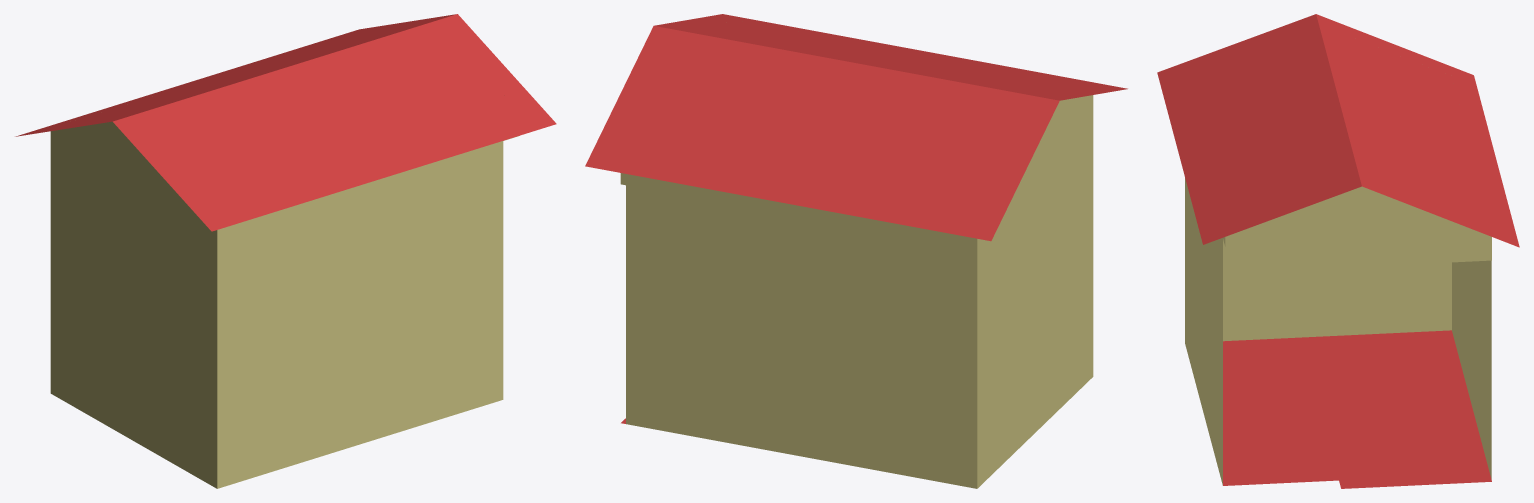
3 renders of one model, left to right at view 1: azimuth 30°, elevation 25°; view 2: azimuth 150°, elevation 25°; view 3: azimuth 270°, elevation 25°, orthographic. The views are drawn at different scales.
Size of the model in its own units: 13.27 by 10.84 by 10.3.
